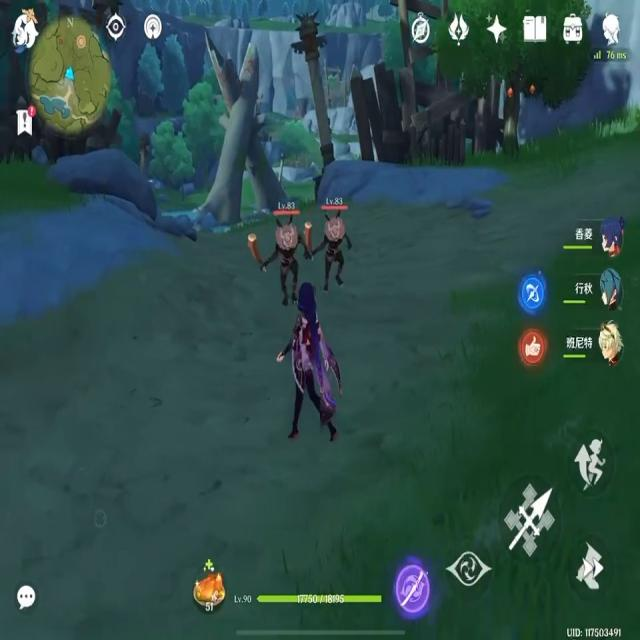genshin-hilichurls: (262, 223, 300, 306), (318, 216, 350, 294)
